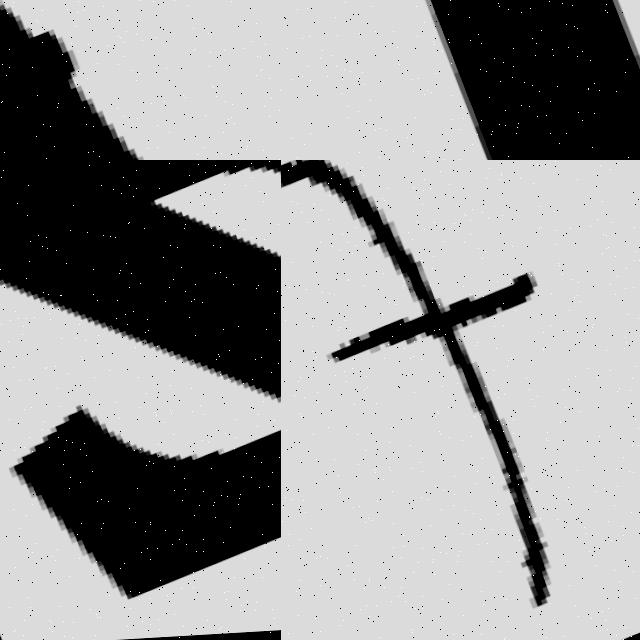F: (281, 160, 545, 612), (0, 7, 132, 160)
L: (315, 0, 640, 160)
Z: (0, 160, 281, 632)
